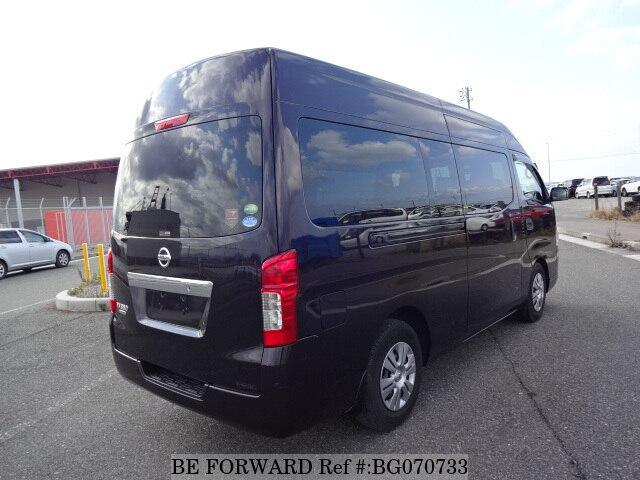van: (104, 46, 566, 418)
